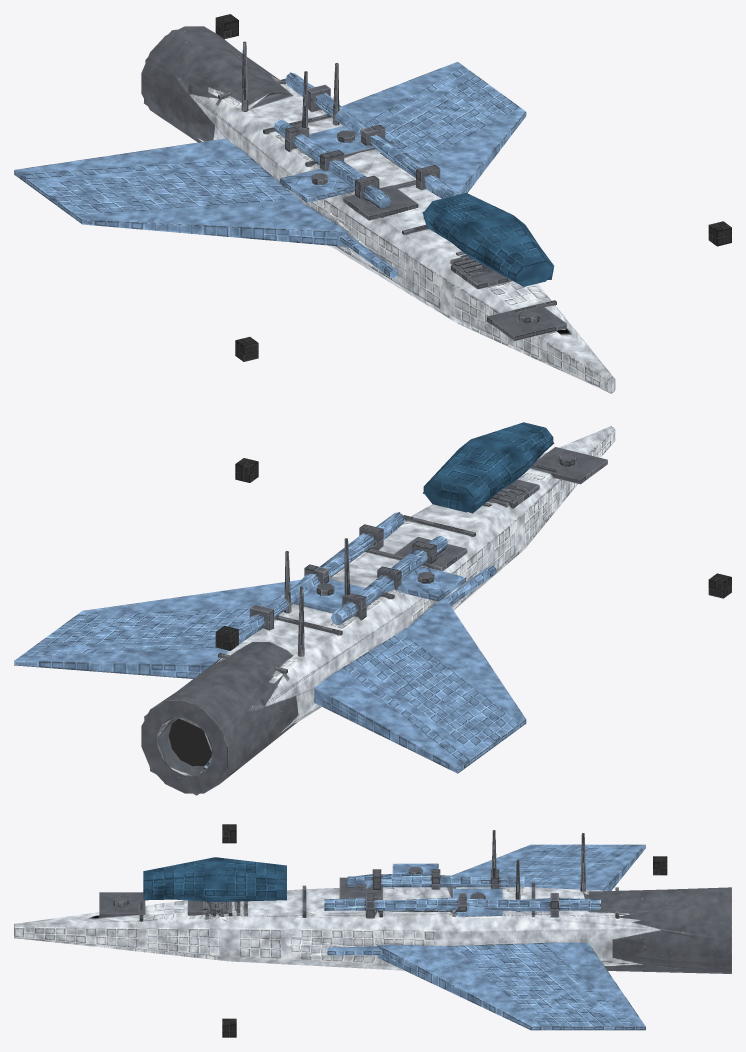
File: sd_npc_courier.glb
3 views of the same model, one above another, from view 1: azimuth 30°, elevation 25°; view 2: azimuth 150°, elevation 25°; view 3: azimuth 270°, elevation 25° (orthographic). The views are drawn at different scales.
Visible parts, largest first — view 1: LOD0_body, LOD1_body; view 2: LOD0_body, LOD1_body; view 3: LOD0_body, LOD1_body.
Boxes of the visible parts, x1,y1,x2,y2 form: LOD0_body: (14,14,731,393); LOD1_body: (59,28,611,393); LOD0_body: (14,422,731,793); LOD1_body: (40,426,611,795); LOD0_body: (14,824,731,1037); LOD1_body: (14,849,731,972).
Size of the model in its own units: 0.66 by 0.2016 by 1.
Materials: 1 (1 with a texture image).
